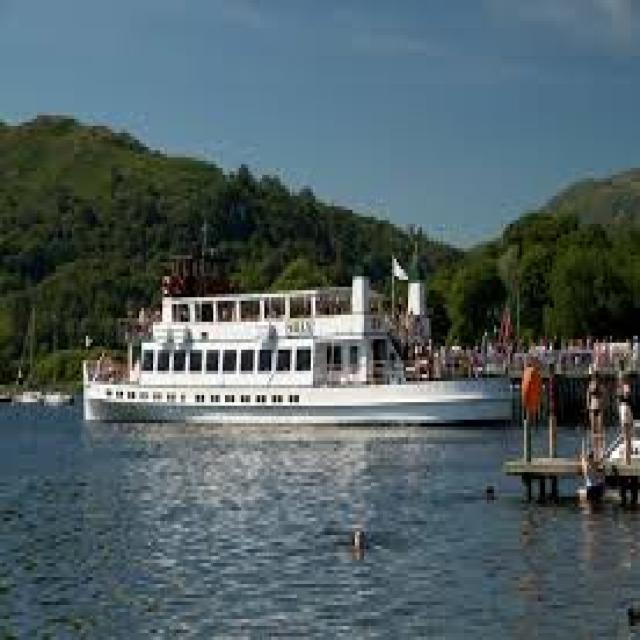passenger ship: (86, 254, 514, 454)
